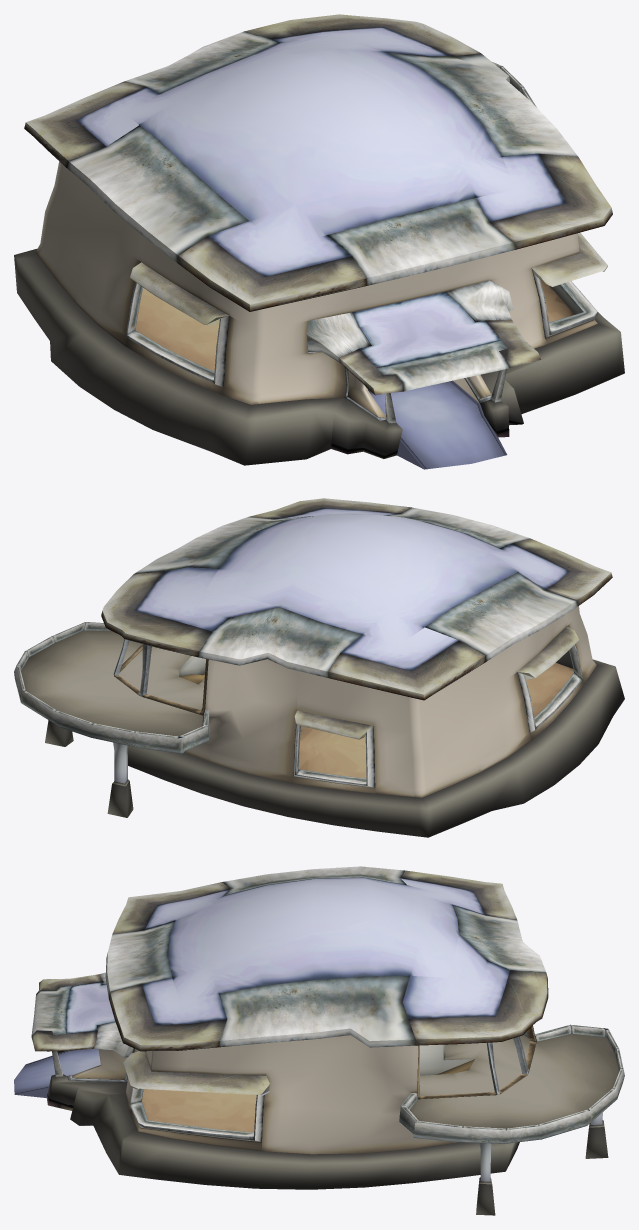
File: settler_house_60m.DAE
3 renders of one model, top to bottom at view 1: azimuth 30°, elevation 25°; view 2: azimuth 150°, elevation 25°; view 3: azimuth 270°, elevation 25°, orthographic. The views are drawn at different scales.
Visible parts, largest first — view 1: Object03; view 2: Object03; view 3: Object03.
Part boxes in pixels (x1=…): Object03: x1=14, y1=14, x2=624, y2=469; Object03: x1=14, y1=498, x2=624, y2=837; Object03: x1=14, y1=866, x2=624, y2=1215.
Size of the model in its own units: 65.81 by 32.97 by 78.49.
